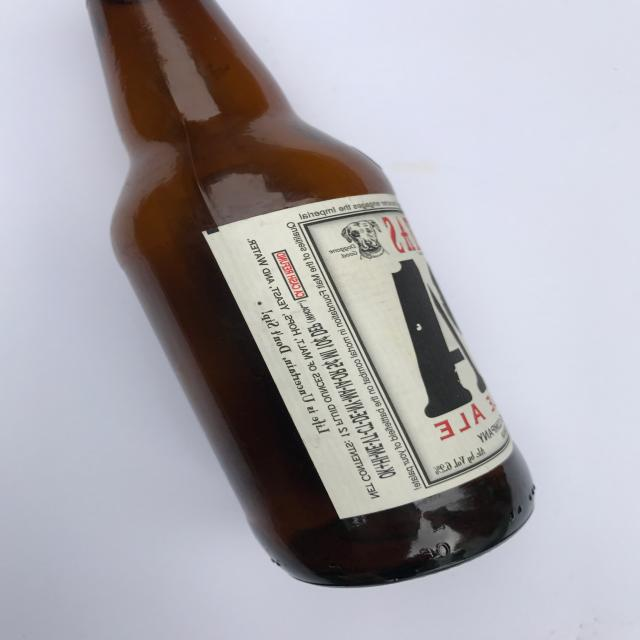glass: (78, 0, 537, 588)
